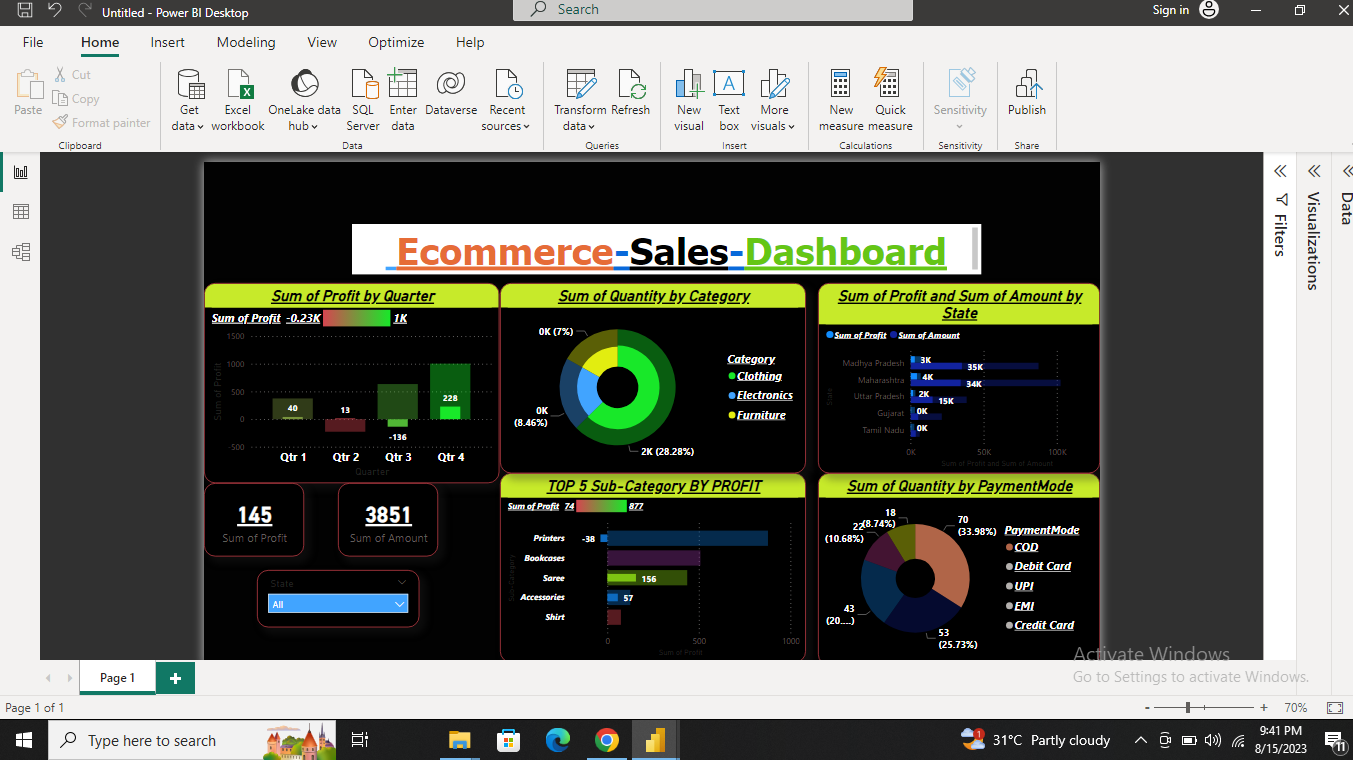

The dashboard page shown, as its layout file describes it:
{"tool":"powerbi","page":{"name":"Page 1","canvas":[1280,720],"ordinal":0},"visuals":[{"type":"textbox","box":[211.2,87.9,898.6,72.3],"z":1},{"type":"columnChart","fields":{"Y":["Sum(Details.Profit)"],"Category":["Orders ett.Order Date.Variation.Date Hierarchy.Quarter"]},"box":[0,172.9,422.4,286.3],"z":2},{"type":"barChart","title":"TOP 5 Sub-Category BY PROFIT","fields":{"Category":["Details.Sub-Category"],"Y":["Sum(Details.Profit)"]},"box":[422.4,443.6,436.5,270.7],"z":3},{"type":"donutChart","fields":{"Category":["Details.Category"],"Y":["Sum(Details.Quantity)"]},"box":[422.4,172.9,436.5,272.1],"z":4},{"type":"donutChart","fields":{"Y":["Sum(Details.Quantity)"],"Category":["Details.PaymentMode"]},"box":[877.3,443.6,402.5,275],"z":5},{"type":"card","fields":{"Values":["Sum(Details.Amount)"]},"box":[191.3,459.2,143.1,104.9],"z":6},{"type":"card","fields":{"Values":["Sum(Details.Profit)"]},"box":[0,459.2,143.1,104.9],"z":7},{"type":"clusteredBarChart","fields":{"Category":["Orders ett.State"],"Y":["Sum(Details.Profit)","Sum(Details.Amount)"]},"box":[877.3,172.9,402.5,272.1],"z":8},{"type":"slicer","fields":{"Values":["Orders ett.State"]},"box":[75.1,582.5,232.4,82.2],"z":9}]}

Visuals, with their boxes on the page's 1280x720 design canvas (x1, y1, x2, y2). These are canvas units, not pixel positions in the 1353x760 screenshot, which may show the page scaled, cropped or inside an application window:
textbox: box=[211, 88, 1110, 160]
columnChart - Sum(Details.Profit) x Orders ett.Order Date.Variation.Date Hierarchy.Quarter: box=[0, 173, 422, 459]
"TOP 5 Sub-Category BY PROFIT" barChart: box=[422, 444, 859, 714]
donutChart - Details.Category x Sum(Details.Quantity): box=[422, 173, 859, 445]
donutChart - Sum(Details.Quantity) x Details.PaymentMode: box=[877, 444, 1280, 719]
card - Sum(Details.Amount): box=[191, 459, 334, 564]
card - Sum(Details.Profit): box=[0, 459, 143, 564]
clusteredBarChart - Orders ett.State x Sum(Details.Profit): box=[877, 173, 1280, 445]
slicer - Orders ett.State: box=[75, 582, 308, 665]
